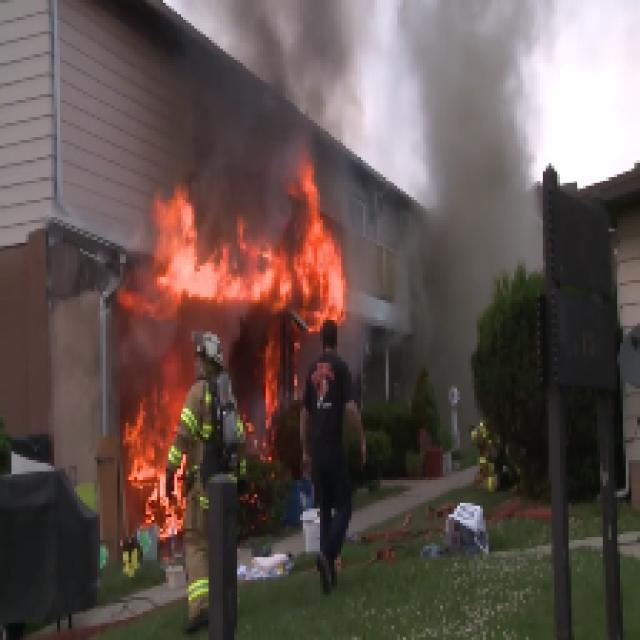fire: (426, 21, 521, 310), (161, 215, 337, 303)
